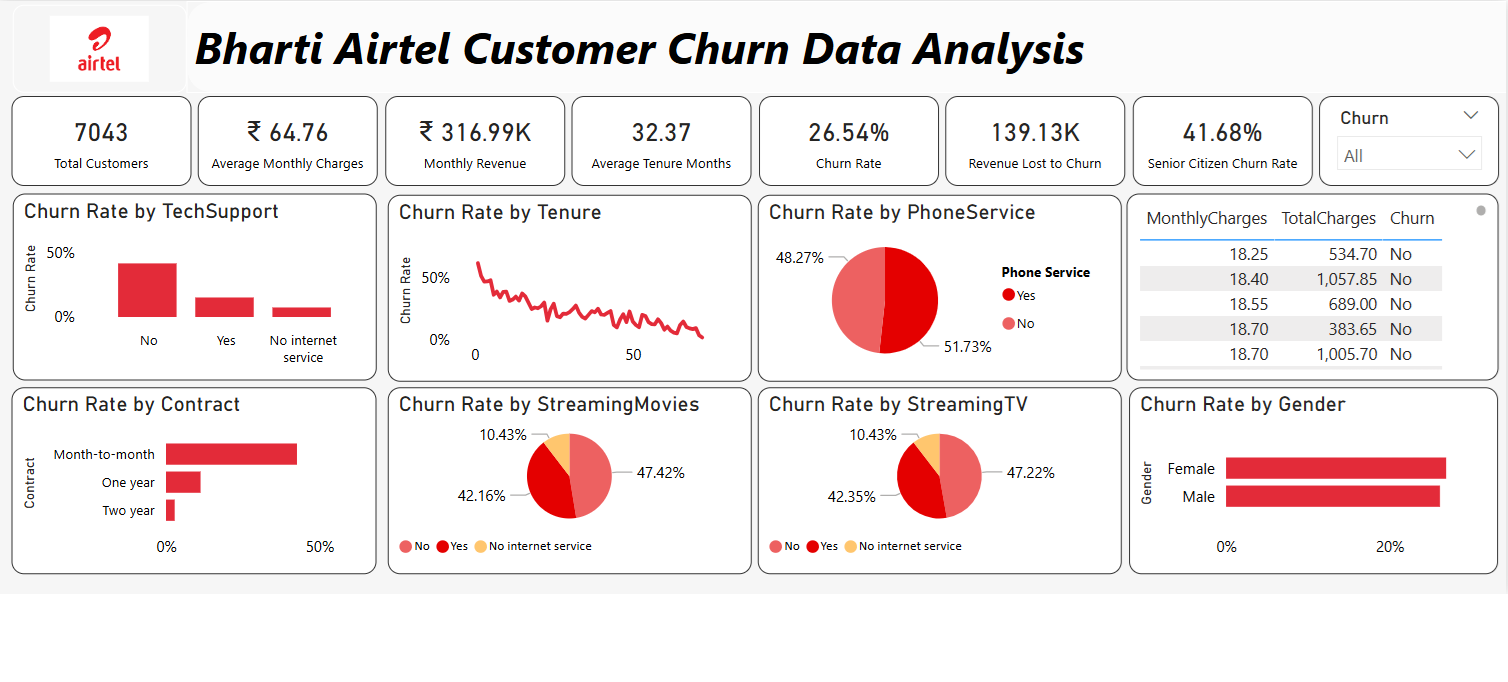

The page's visual inventory and layout, read from the dashboard file:
{"tool":"powerbi","page":{"name":"Page 1","canvas":[1205,475],"ordinal":0},"visuals":[{"type":"card","fields":{"Values":["telecomcustomerchurn.Total Customers"]},"box":[9.5,76,144,72],"z":0},{"type":"card","fields":{"Values":["telecomcustomerchurn.Churn Rate"]},"box":[607.5,76,144,72],"z":1000},{"type":"card","fields":{"Values":["telecomcustomerchurn.Average Monthly Charges"]},"box":[159,76,144,72],"z":2000},{"type":"card","fields":{"Values":["telecomcustomerchurn.Monthly Revenue"]},"box":[308.5,76,144,72],"z":3000},{"type":"card","fields":{"Values":["telecomcustomerchurn.Average Tenure"]},"box":[458,76,144,72],"z":4000},{"type":"image","box":[11.4,2.9,138.6,71.4],"z":5000},{"type":"card","fields":{"Values":["telecomcustomerchurn.Revenue Lost to Churn"]},"box":[757,76,144,72],"z":6000},{"type":"shape","box":[150,0,1085.7,74.3],"z":7000},{"type":"barChart","fields":{"Category":["telecomcustomerchurn.gender"],"Y":["telecomcustomerchurn.Churn Rate"]},"box":[904.2,309.4,295,150],"z":8000},{"type":"card","fields":{"Values":["telecomcustomerchurn.Senior Churn Rate"]},"box":[906.5,76,144,72],"z":9000},{"type":"clusteredBarChart","fields":{"Category":["telecomcustomerchurn.Contract"],"Y":["telecomcustomerchurn.Churn Rate"]},"box":[10.5,309.2,291.4,150],"z":10000},{"type":"pieChart","fields":{"Category":["telecomcustomerchurn.StreamingMovies"],"Y":["telecomcustomerchurn.Churn Rate"]},"box":[310.6,309.2,291,150],"z":11000},{"type":"pieChart","fields":{"Y":["telecomcustomerchurn.Churn Rate"],"Category":["telecomcustomerchurn.StreamingTV"]},"box":[606.6,309.2,291.2,150],"z":12000},{"type":"lineChart","fields":{"Category":["telecomcustomerchurn.tenure"],"Y":["telecomcustomerchurn.Churn Rate"]},"box":[310.6,154.7,291,150],"z":13000},{"type":"pieChart","fields":{"Y":["telecomcustomerchurn.Churn Rate"],"Category":["telecomcustomerchurn.PhoneService"]},"box":[606.6,154.7,291,150],"z":14000},{"type":"clusteredColumnChart","fields":{"Category":["telecomcustomerchurn.TechSupport"],"Y":["telecomcustomerchurn.Churn Rate"]},"box":[10.6,154.2,291.2,150],"z":15000},{"type":"tableEx","fields":{"Values":["telecomcustomerchurn.MonthlyCharges","telecomcustomerchurn.TotalCharges","telecomcustomerchurn.Churn"]},"box":[902.2,154.4,297,150],"z":16000},{"type":"slicer","fields":{"Values":["telecomcustomerchurn.Churn"]},"box":[1056,76,144,72],"z":17000}]}

Visuals, with their boxes in screenshot pixels (x1, y1, x2, y2):
card - telecomcustomerchurn.Total Customers: (20,94,197,183)
card - telecomcustomerchurn.Churn Rate: (758,94,935,183)
card - telecomcustomerchurn.Average Monthly Charges: (204,94,382,183)
card - telecomcustomerchurn.Monthly Revenue: (389,94,566,183)
card - telecomcustomerchurn.Average Tenure: (573,94,751,183)
image: (22,4,193,92)
card - telecomcustomerchurn.Revenue Lost to Churn: (942,94,1120,183)
shape: (193,0,1507,92)
barChart - telecomcustomerchurn.gender x telecomcustomerchurn.Churn Rate: (1124,382,1488,567)
card - telecomcustomerchurn.Senior Churn Rate: (1127,94,1304,183)
clusteredBarChart - telecomcustomerchurn.Contract x telecomcustomerchurn.Churn Rate: (21,382,380,567)
pieChart - telecomcustomerchurn.StreamingMovies x telecomcustomerchurn.Churn Rate: (391,382,750,567)
pieChart - telecomcustomerchurn.Churn Rate x telecomcustomerchurn.StreamingTV: (756,382,1116,567)
lineChart - telecomcustomerchurn.tenure x telecomcustomerchurn.Churn Rate: (391,191,750,376)
pieChart - telecomcustomerchurn.Churn Rate x telecomcustomerchurn.PhoneService: (756,191,1116,376)
clusteredColumnChart - telecomcustomerchurn.TechSupport x telecomcustomerchurn.Churn Rate: (21,190,380,375)
tableEx - telecomcustomerchurn.MonthlyCharges x telecomcustomerchurn.TotalCharges: (1121,191,1488,376)
slicer - telecomcustomerchurn.Churn: (1311,94,1489,183)
